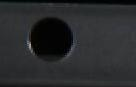holes: (26, 15, 79, 64)
